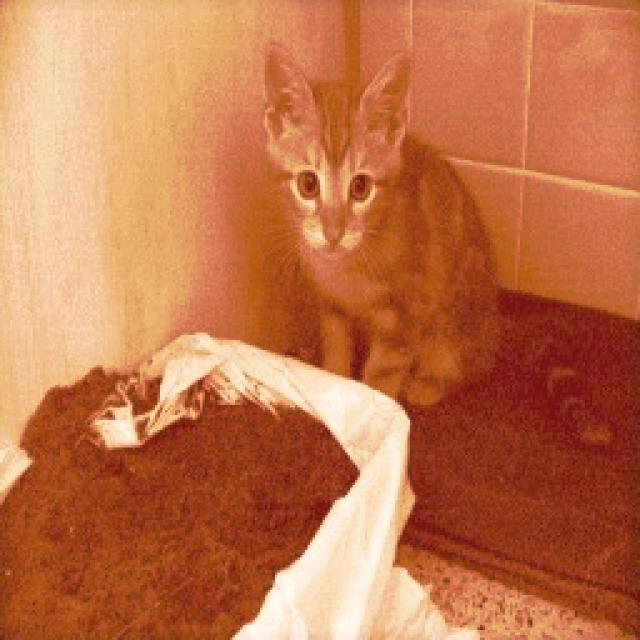cat: (228, 6, 566, 440)
